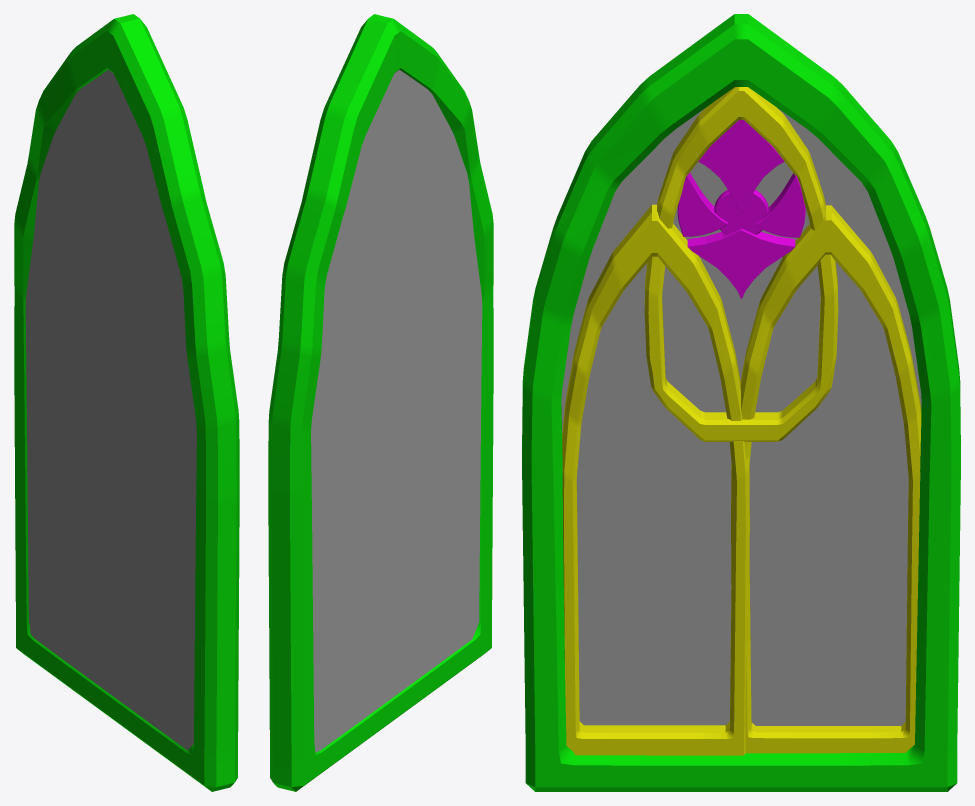
Rendered from window_smooth.fbx.
3 views of the same model, side by side, from view 1: azimuth 30°, elevation 25°; view 2: azimuth 150°, elevation 25°; view 3: azimuth 270°, elevation 25° (orthographic). The views are drawn at different scales.
Parts seen in each view (by area): view 1: pPlane1, pCube3; view 2: pPlane1, pCube3; view 3: pPlane1, pCube3, pasted__pCube3, pasted__pCube4, pasted__pCube5, _MOD_Emblem:symbol1, _MOD_Emblem:symbol, _MOD_Emblem:pPlane4, _MOD_Emblem:pPlane5, _MOD_Emblem:pDisc1.
Part boxes in pixels (<box>): pPlane1: <box>25,69,196,750</box>; pCube3: <box>14,14,239,791</box>; pPlane1: <box>311,70,482,752</box>; pCube3: <box>268,14,493,791</box>; pPlane1: <box>561,108,921,725</box>; pCube3: <box>522,14,960,791</box>; pasted__pCube3: <box>562,204,749,755</box>; pasted__pCube4: <box>731,205,921,753</box>; pasted__pCube5: <box>644,87,838,441</box>; _MOD_Emblem:symbol1: <box>698,120,784,213</box>; _MOD_Emblem:symbol: <box>687,228,795,298</box>; _MOD_Emblem:pPlane4: <box>755,173,805,237</box>; _MOD_Emblem:pPlane5: <box>677,172,727,236</box>; _MOD_Emblem:pDisc1: <box>714,189,768,234</box>.
Size of the model in its own units: 0.2567 by 4.36 by 2.26.
